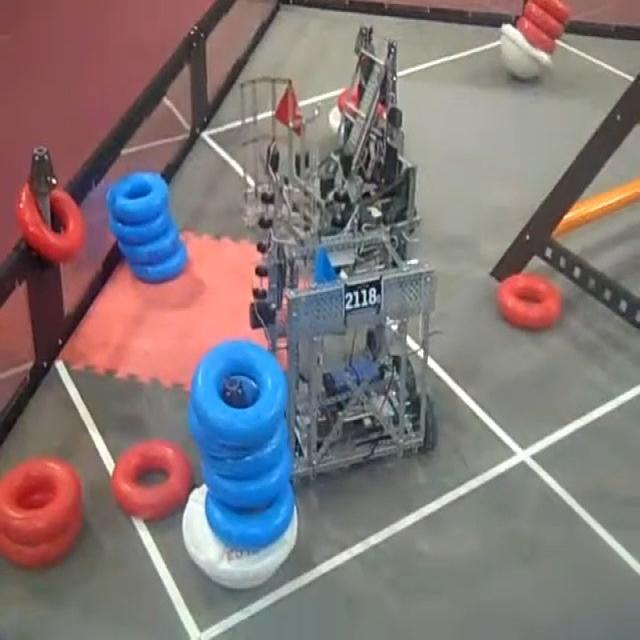Blue-Ring: (189, 340, 288, 448), (206, 483, 295, 549), (204, 452, 291, 508), (204, 422, 289, 478), (106, 172, 169, 223), (119, 222, 180, 264), (130, 242, 188, 282), (110, 208, 171, 244)
Red-Ring: (0, 458, 81, 543), (111, 438, 192, 520), (16, 182, 85, 262), (0, 521, 81, 568), (498, 273, 562, 329), (524, 2, 564, 38), (516, 15, 554, 52), (529, 0, 570, 22)
